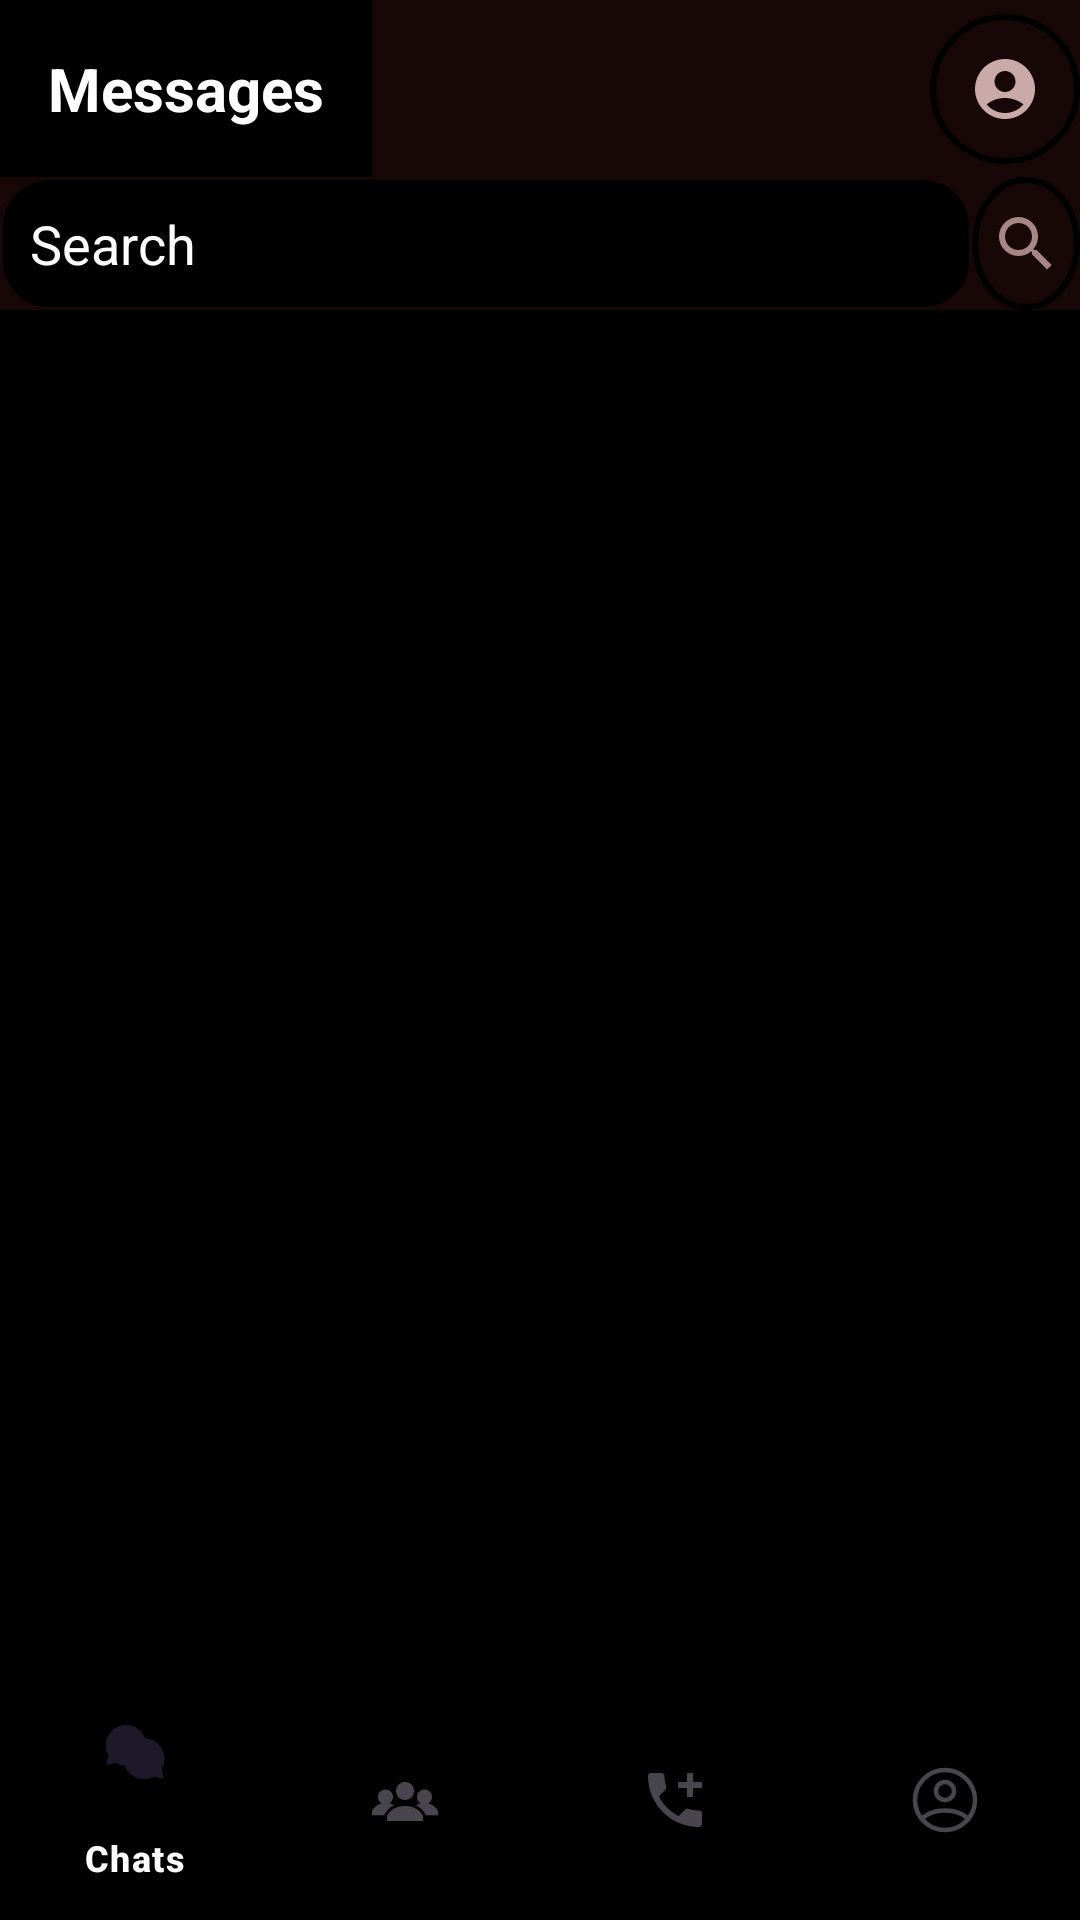

Named icons in this screenshot (1080*1920) and their centers, (x,y):
profile: (1005,89)
